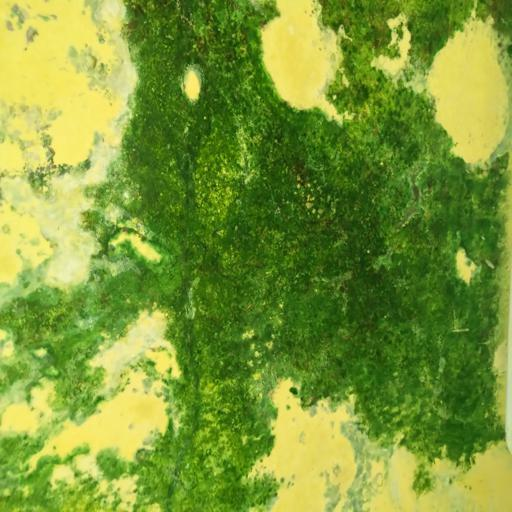algae: (35, 12, 512, 512)
